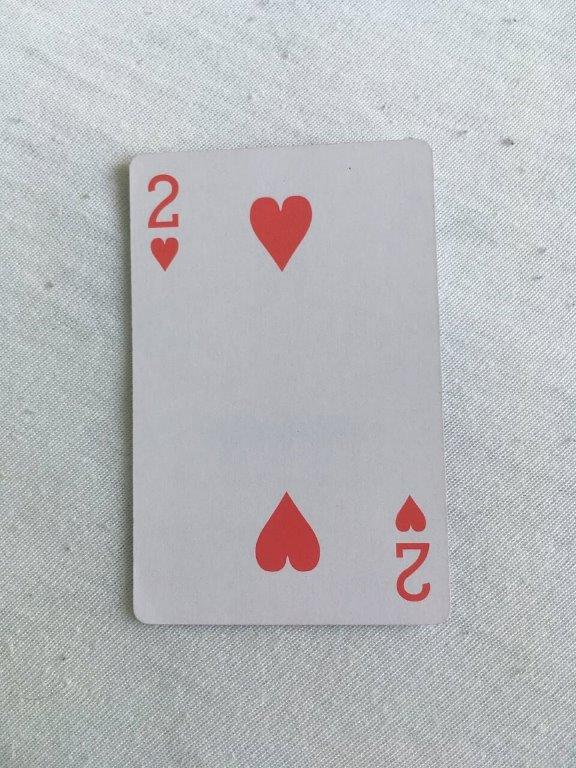2H: (126, 136, 455, 630)
